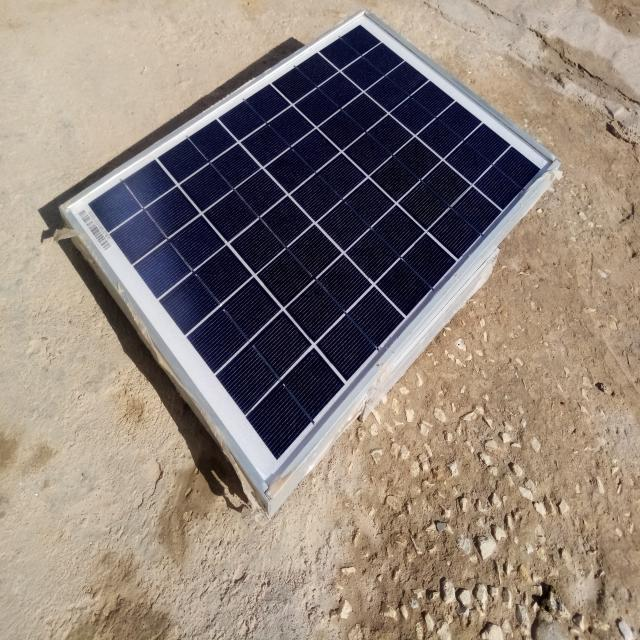Normal Solar Panel: (62, 12, 558, 492)
